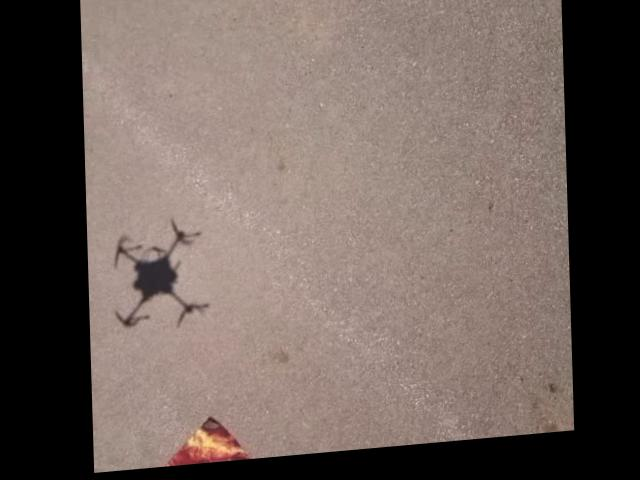fire-poster: (127, 413, 277, 472)
